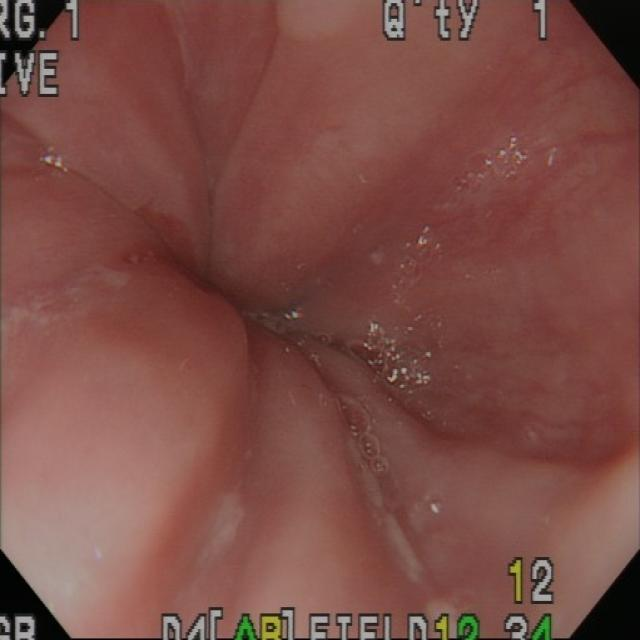I: (101, 142, 377, 444)
J: (347, 436, 431, 589), (2, 258, 135, 353), (194, 481, 254, 574)
S: (160, 608, 483, 640), (383, 3, 558, 45), (3, 3, 83, 45), (3, 50, 63, 101), (507, 558, 556, 608), (506, 614, 556, 640), (2, 614, 39, 640)
T: (436, 131, 536, 214), (351, 324, 433, 393), (391, 223, 448, 306), (348, 403, 392, 480), (317, 333, 333, 350)
U: (37, 147, 75, 176), (424, 499, 447, 518), (283, 308, 307, 322)
